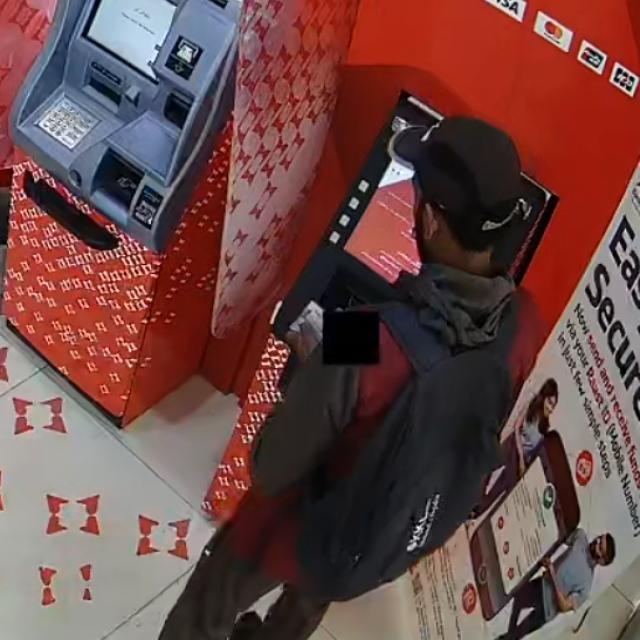note: (278, 292, 331, 355)
